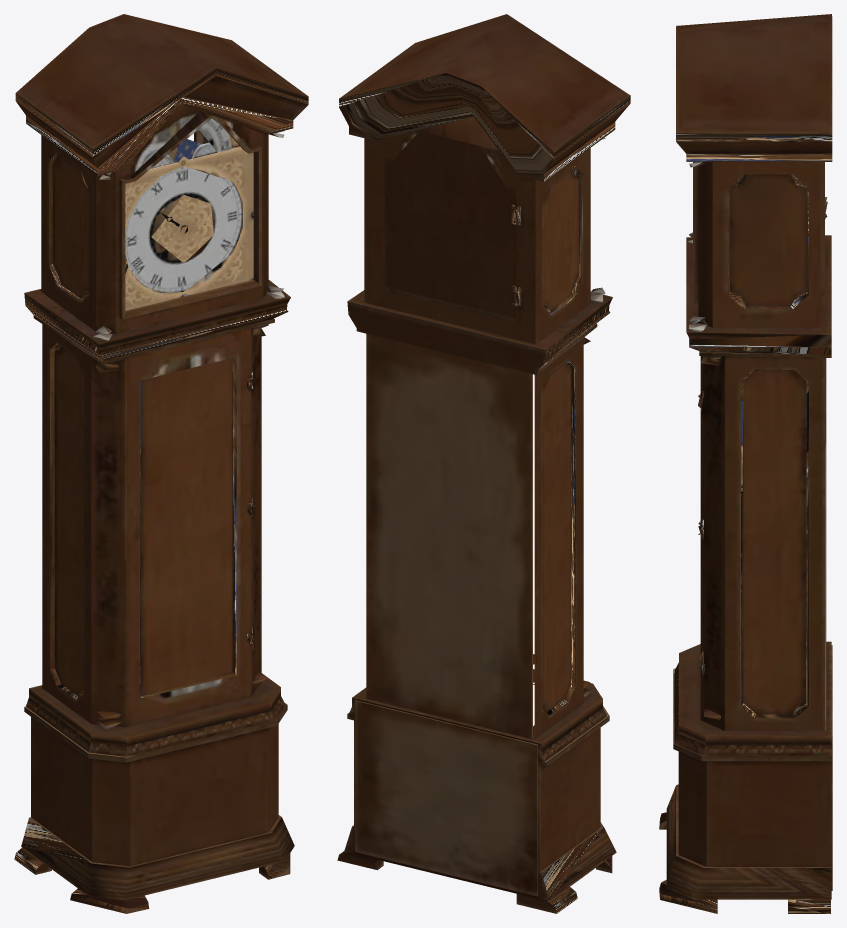
File: clock_tall.glb
The picture shows the model from 3 angles, left to right: view 1: azimuth 30°, elevation 25°; view 2: azimuth 150°, elevation 25°; view 3: azimuth 270°, elevation 25°; orthographic projection. The views are drawn at different scales.
Visible parts, largest first — view 1: clock_tall; view 2: clock_tall; view 3: clock_tall.
Part boxes in pixels (x1=…): clock_tall: x1=14, y1=14, x2=308, y2=913; clock_tall: x1=337, y1=14, x2=630, y2=913; clock_tall: x1=659, y1=14, x2=832, y2=913.
Bounding box in the file's own units: 0.6167 × 2.19 × 0.4137.
Materials: 1 (1 with a texture image).
